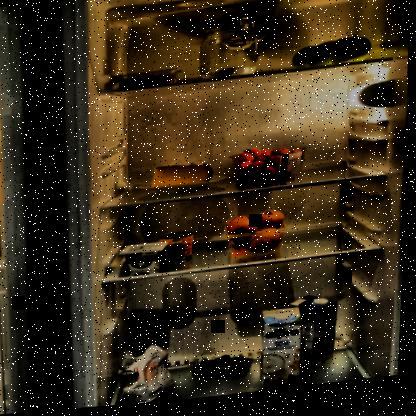apple: (289, 38, 374, 76)
blueberries: (195, 353, 255, 389)
cheese: (153, 162, 218, 195)
corn: (158, 234, 199, 271)
milk: (289, 297, 343, 380), (261, 311, 310, 391)
onion: (226, 213, 286, 259)
shrimp: (117, 70, 180, 94)
strawberries: (231, 149, 314, 190)
